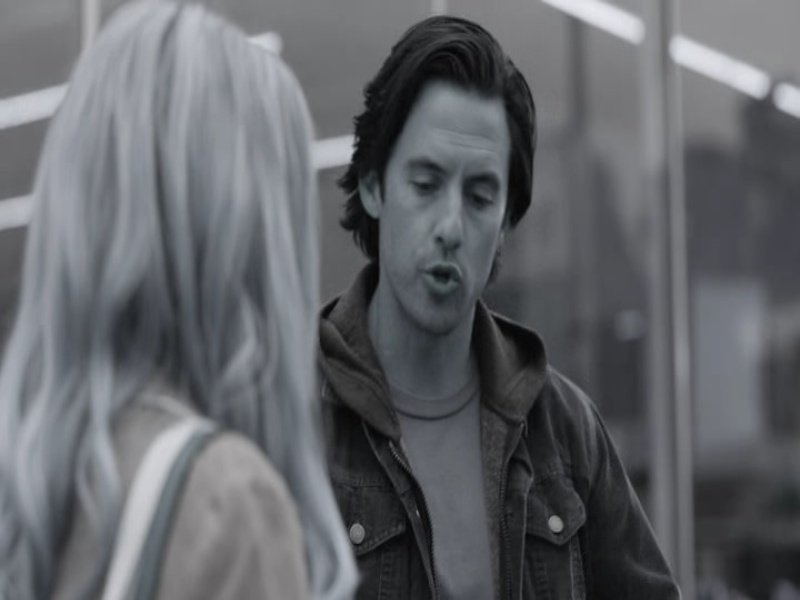TsisyArotava: (353, 49, 535, 348)
